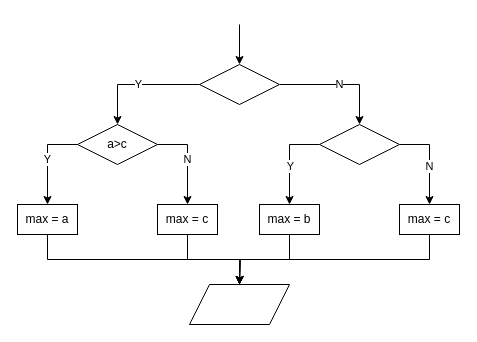
The diagram is 477 pixels wide and 342 high, and some of its shapes have lost their labels. The shapes that lost their labels are listed below. From the top down, each one's centre as x and y in pixels, then its label:
the point at 239,84: a>b
the point at 359,144: b>c
the point at 239,304: 输出最大值
